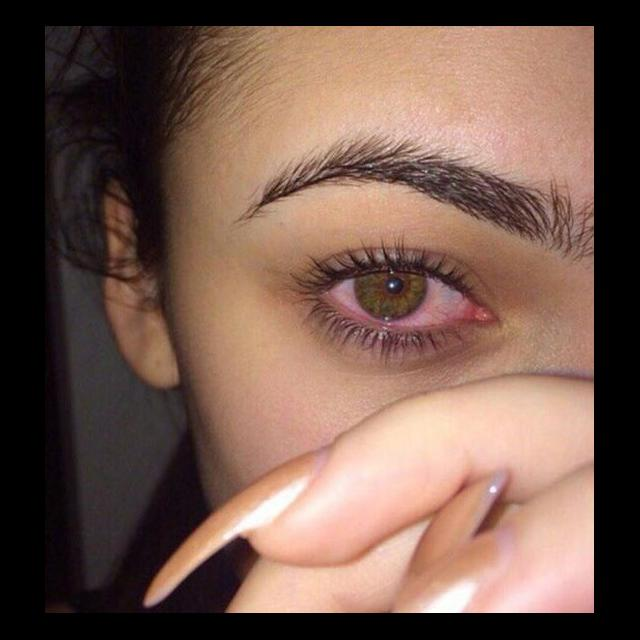eye: (330, 264, 468, 330)
iris: (354, 268, 433, 323)
